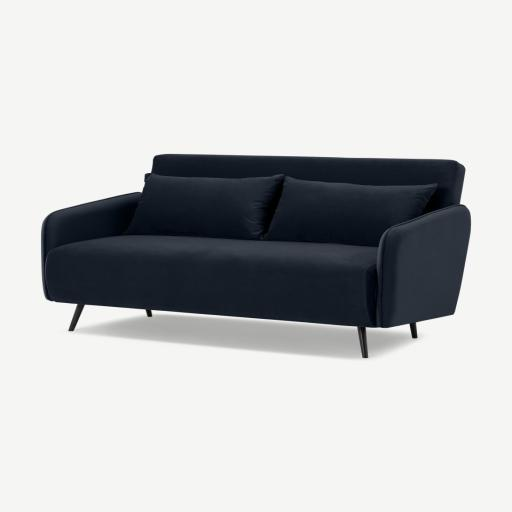back_cushion: (125, 154, 463, 246)
left_arm: (376, 205, 470, 337)
legs: (68, 304, 83, 331), (358, 327, 367, 358), (411, 323, 416, 338), (146, 310, 152, 317)
right_arm: (42, 193, 140, 300)
seat_cushion: (46, 235, 376, 327)
two-seater: (0, 0, 511, 512)
